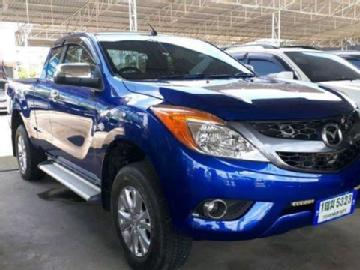pickup: (6, 30, 358, 270)
